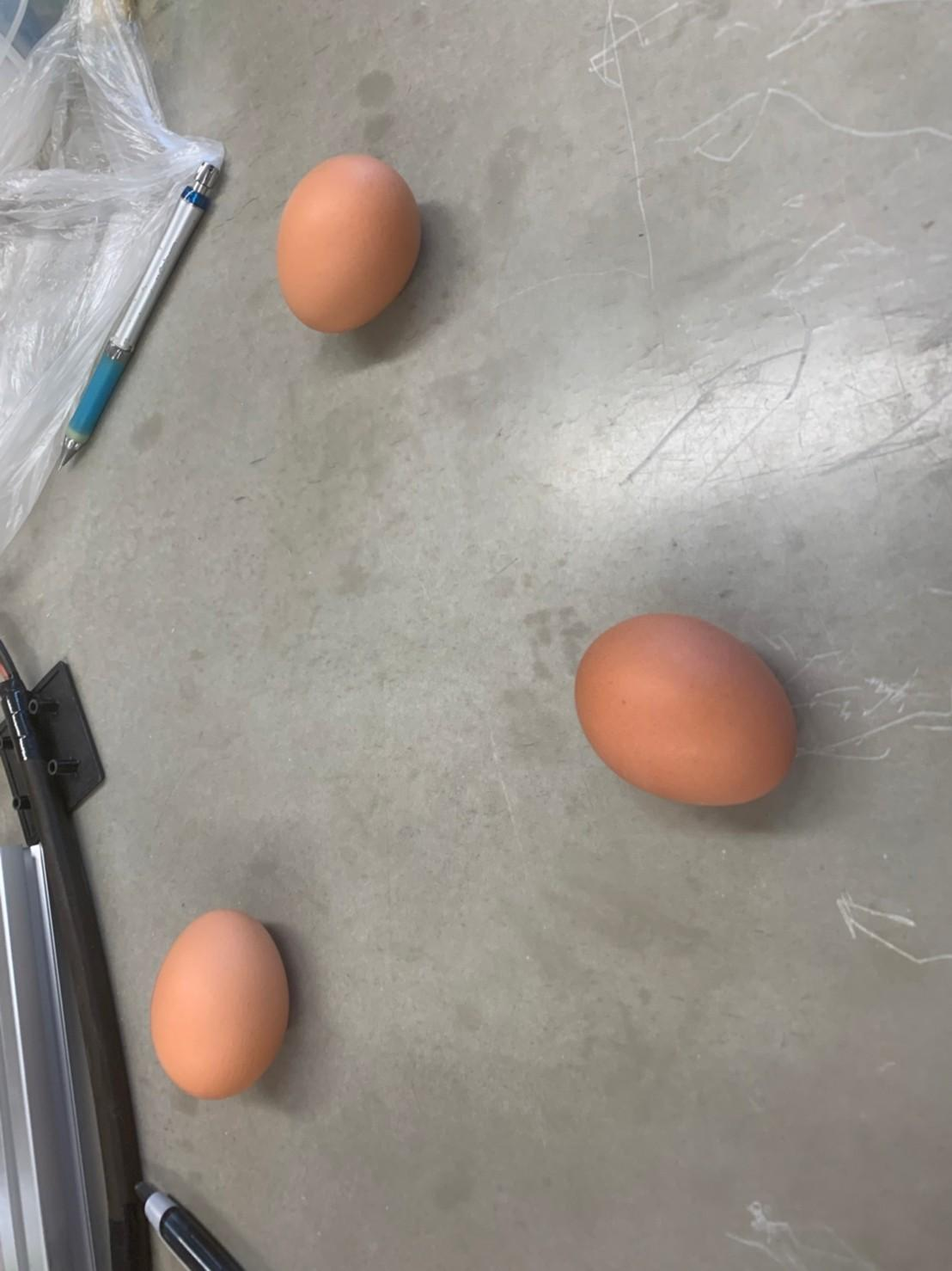egg: (571, 606, 799, 808), (269, 144, 422, 337), (146, 903, 288, 1098)
